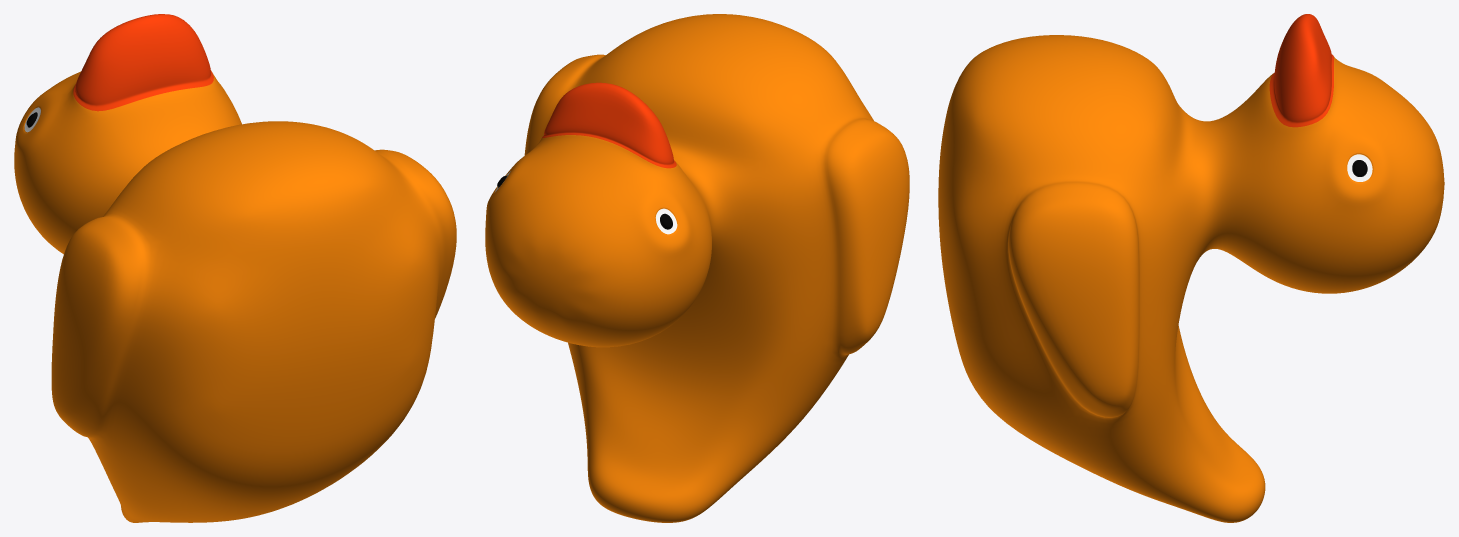
Rendered from ducky.obj.
3 renders of one model, left to right at view 1: azimuth 30°, elevation 25°; view 2: azimuth 150°, elevation 25°; view 3: azimuth 270°, elevation 25°, orthographic. The views are drawn at different scales.
Parts seen in each view (by area): view 1: Sphere_yellow, Sphere_orange; view 2: Sphere_yellow, Sphere_orange; view 3: Sphere_yellow, Sphere_orange.
Part boxes in pixels (box(x1,y1,x2,y2)): Sphere_yellow: box(14, 71, 456, 522); Sphere_orange: box(73, 14, 213, 111); Sphere_yellow: box(485, 14, 909, 522); Sphere_orange: box(542, 82, 676, 168); Sphere_yellow: box(938, 35, 1444, 522); Sphere_orange: box(1269, 14, 1333, 127).
Bounding box in the file's own units: 0.3473 × 0.4218 × 0.4026.
